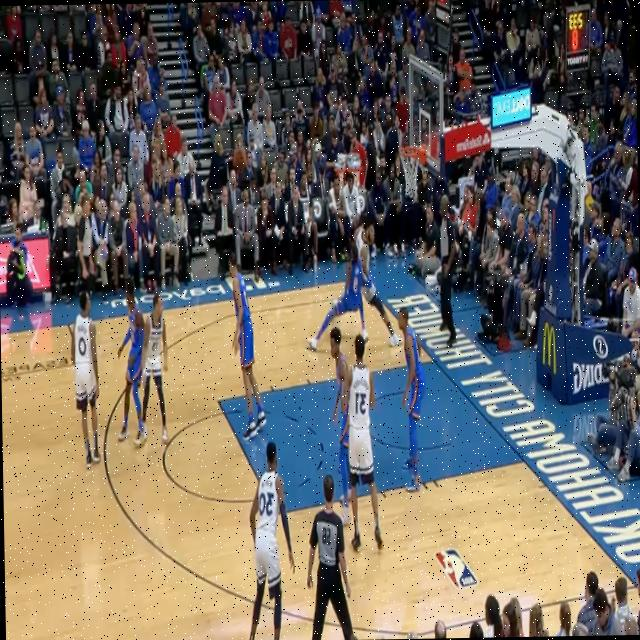Foul: (336, 218, 375, 328)
